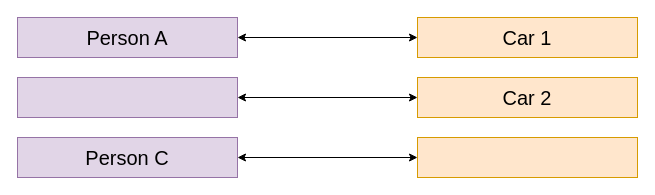
Image size: 655x195. Some labels were removed from this diagram. The centre of each missing label's shape, as x and y in pixels:
"Car 3" goes at point 527,157.
"Person B" goes at point 127,97.
